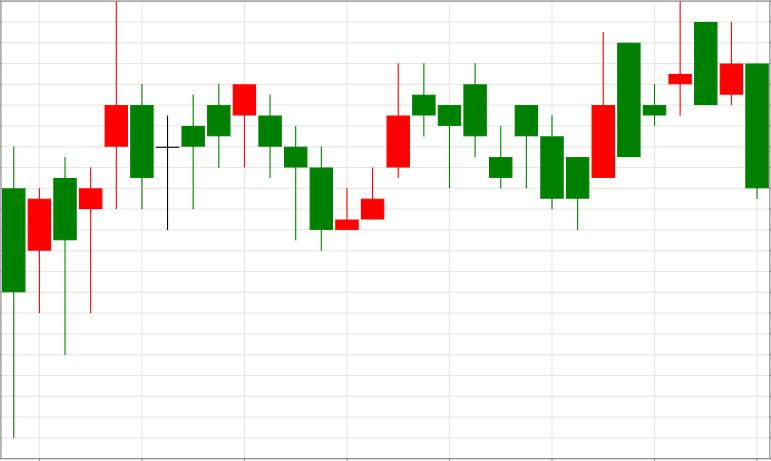hanging_man_fall: (131, 84, 256, 230)
